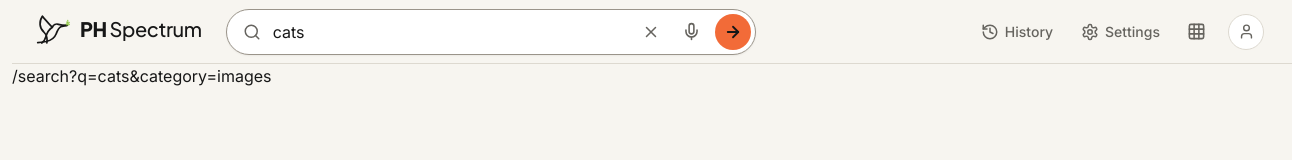
Test: the header search box › elsewhere, a new search goes to All results as before
This screenshot has width=1292, height=160.
Replace the text in the field named "Search the web" with "dogs" at (453, 32), box [273,10,633,54]
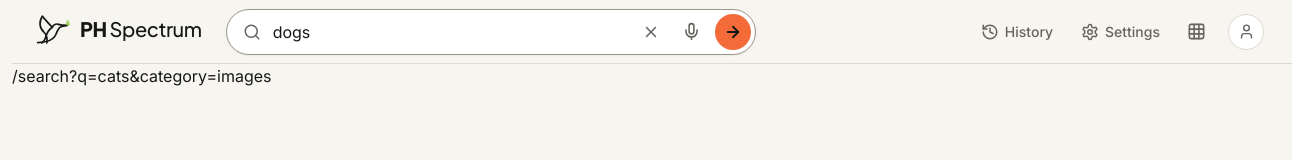
Submit the form, box [226,8,756,54]
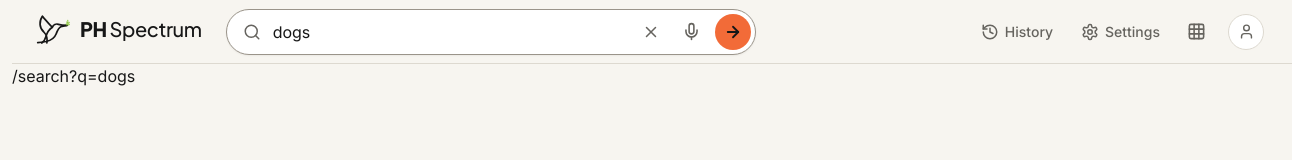
Now the text with test id "where" reads "/search?q=dogs", box [12,66,135,86]
